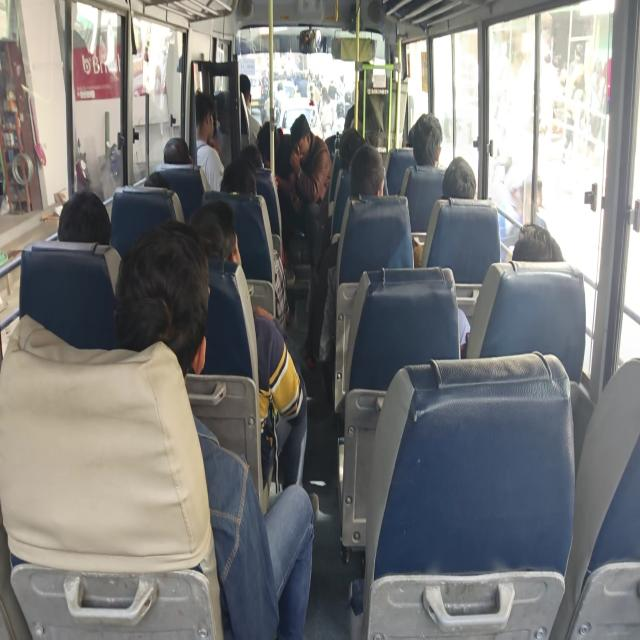person: (113, 220, 318, 638), (188, 199, 307, 495), (302, 144, 387, 366), (458, 223, 564, 357), (416, 156, 476, 356), (275, 113, 332, 268), (57, 189, 122, 295), (289, 113, 332, 205), (194, 90, 225, 192), (57, 189, 111, 245), (511, 223, 564, 262), (407, 112, 443, 167), (350, 144, 386, 197), (239, 73, 261, 144), (441, 156, 476, 199), (163, 137, 192, 164)
